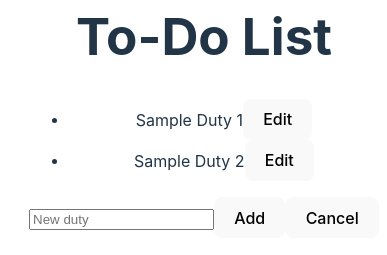
Test: DutyList › should update an existing duty
Expected: the list item "Sample Duty 1" is shown, [136,109,243,129]
Expected: the list item "Sample Duty 2" is shown, [134,150,245,170]
Click the button "Edit" next to "Sample Duty 1" at (278, 119), box [243,99,312,140]
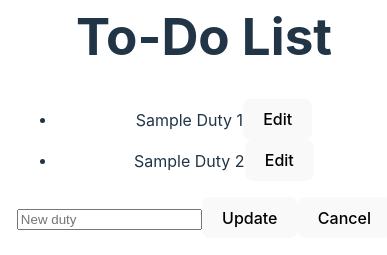
Type "Updated Duty 0" into the field with placeholder "New duty" at (109, 219), box [17,209,202,230]
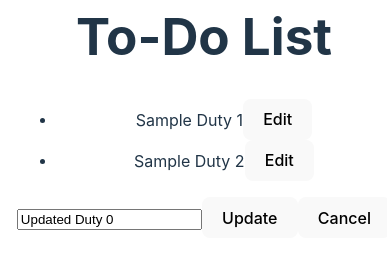
Click the button "Update" at (250, 218), box [202,197,298,238]
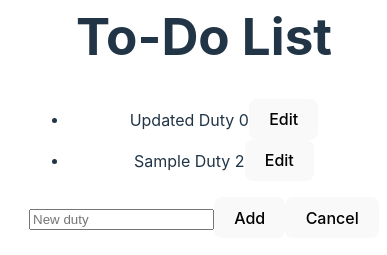
Expected: the list item "Updated Duty 0" is shown, [130,109,249,129]
